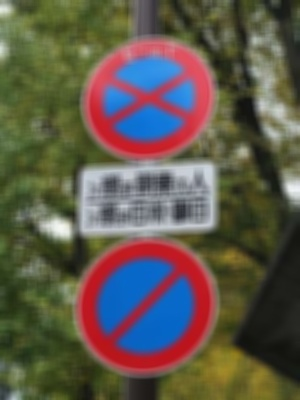Prohibition_sign: (59, 232, 247, 400), (64, 26, 228, 157)
